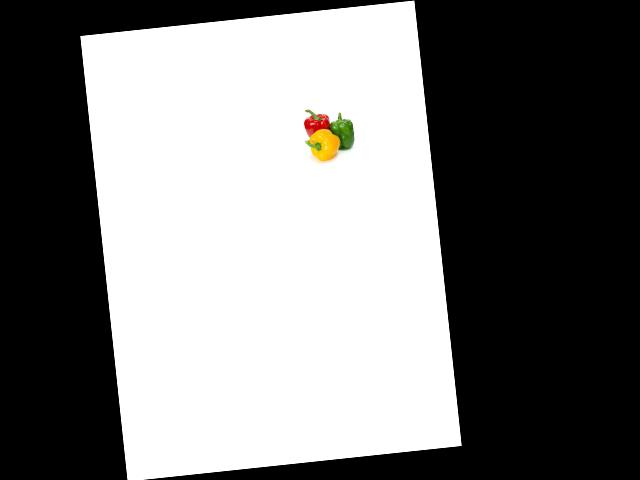bell_pepper: (297, 103, 335, 142)
